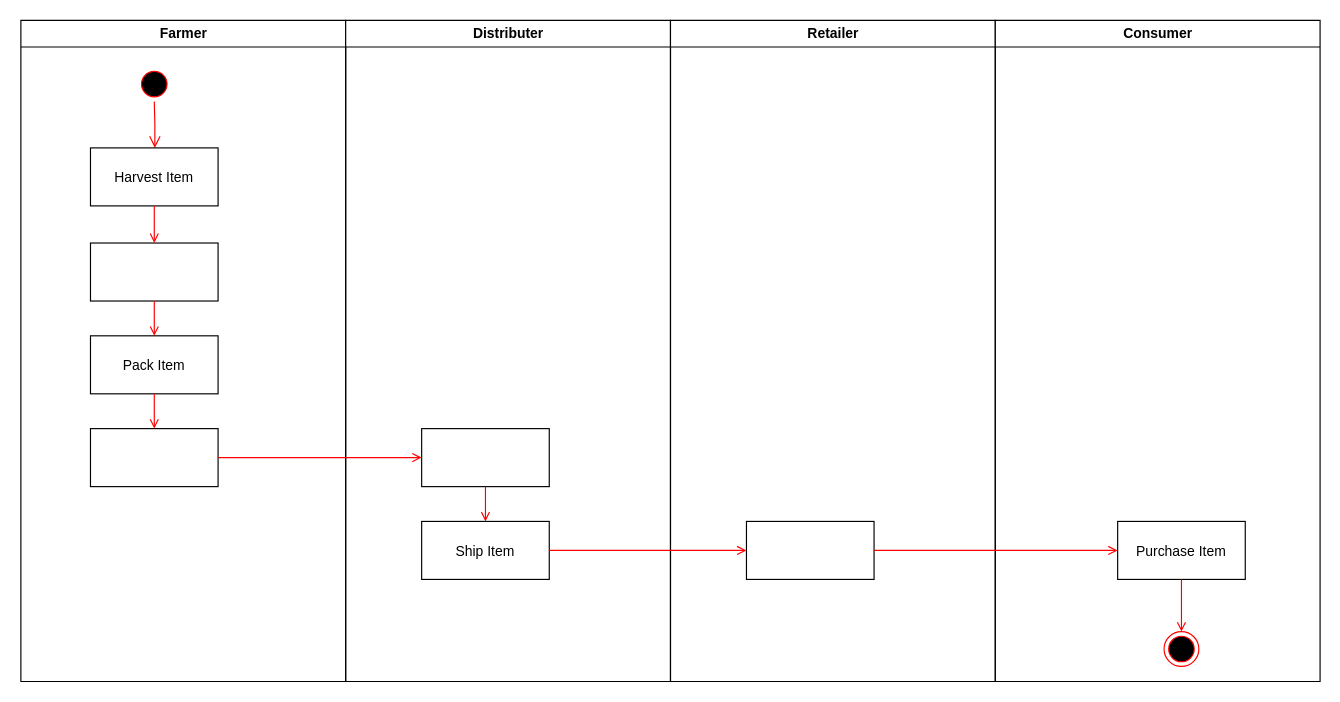
Some shapes in this 1340 by 702 pixel diagram are drawn without their labels. Here are the shapes that lost their labels. From the top down, the centre of each, then its label:
pixel 153 271: Process Item
pixel 153 457: Sell Item
pixel 484 457: Buy Item
pixel 809 549: Recieve Item
